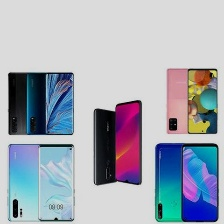phone: (152, 142, 198, 223), (178, 141, 221, 223), (35, 142, 77, 223), (4, 140, 43, 223), (111, 97, 143, 187), (184, 66, 219, 135), (163, 66, 196, 136), (90, 107, 118, 187), (42, 70, 75, 137), (23, 70, 54, 137), (6, 70, 37, 137)
